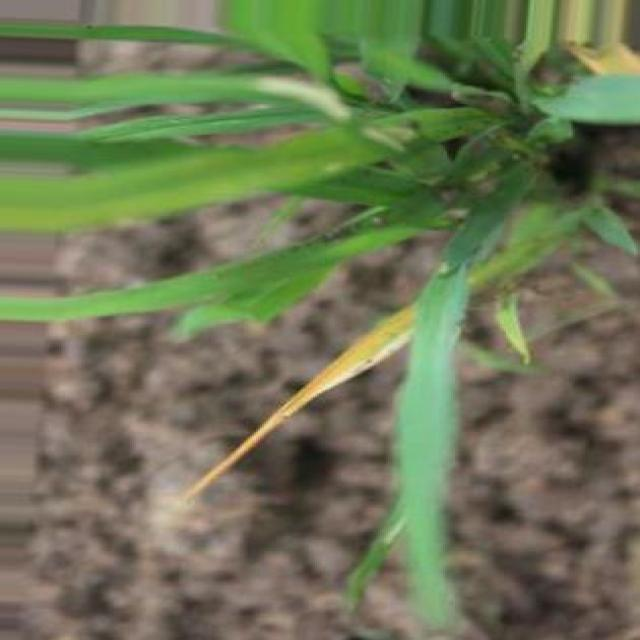Rice Tungro: (182, 306, 416, 499)
